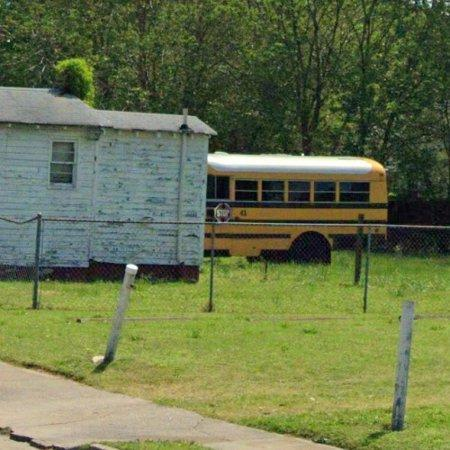buses: (207, 152, 388, 264)
